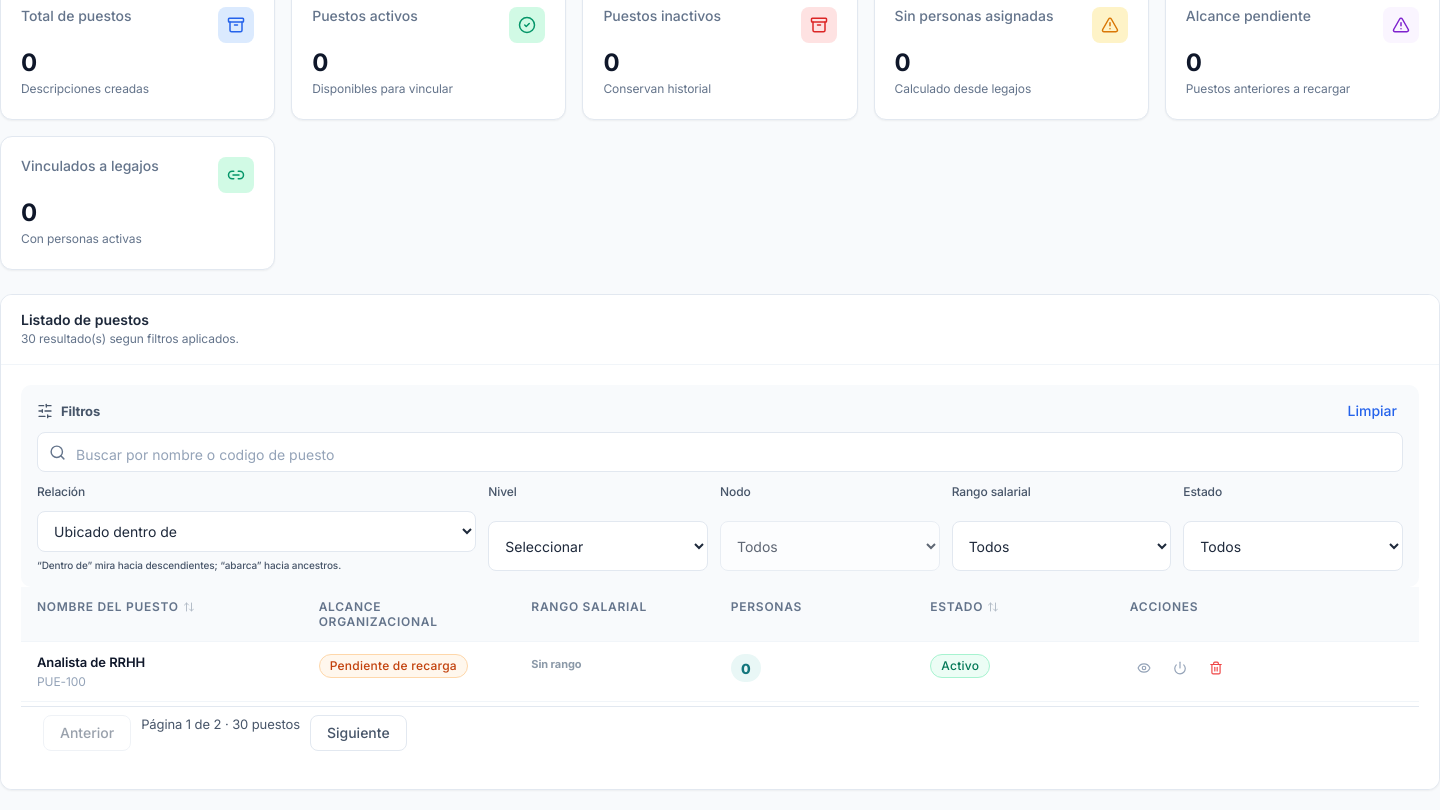
Scenario: PuestosPage — Etapa 9E (paginación real) › la paginación cambia de página, pasando el page correcto a positionApiService.list
(page scrolled)
expect the text "Analista de RRHH" is shown: met, box [37, 654, 145, 670]
Click the button "Siguiente" at (358, 732), box [310, 714, 407, 750]
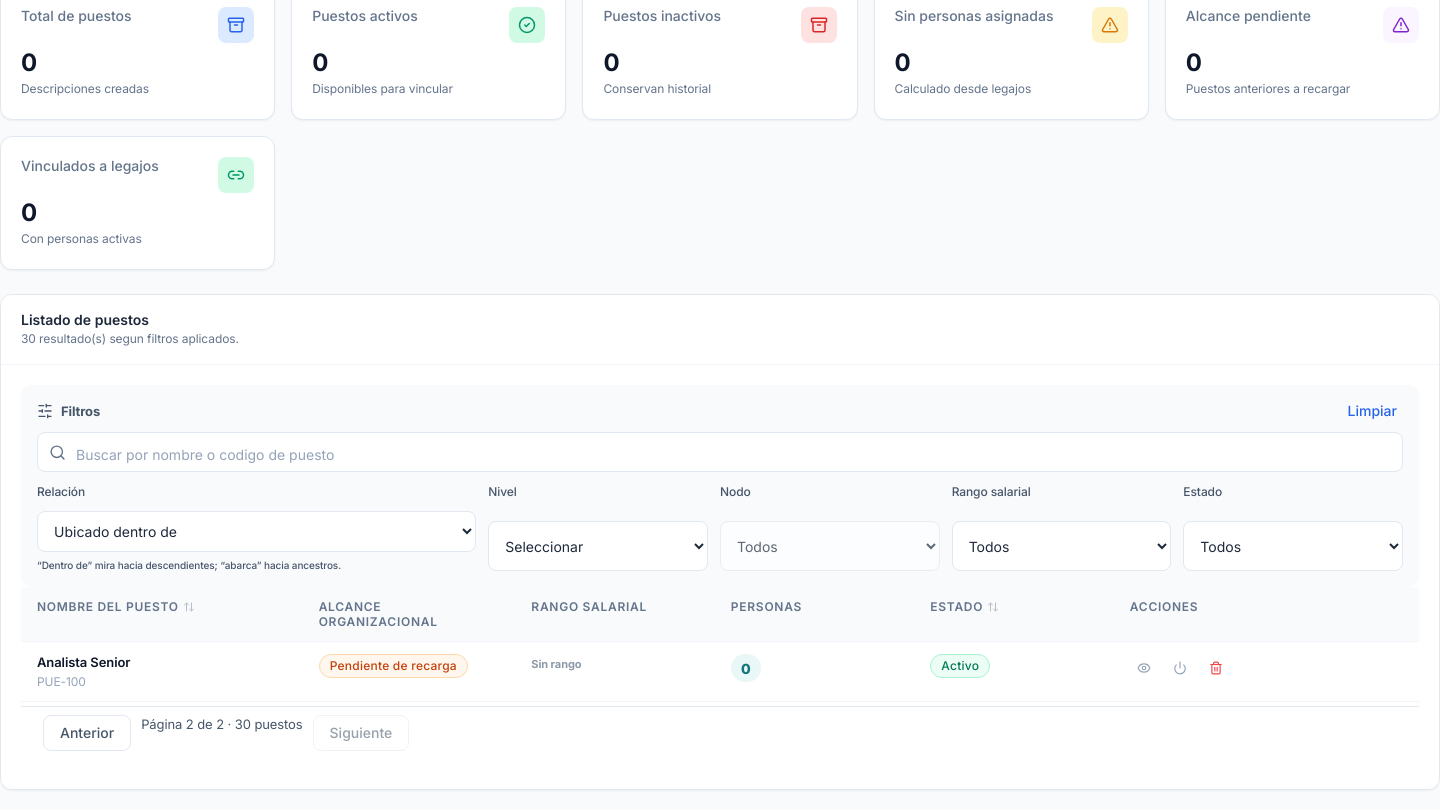
expect the text "Analista Senior" is shown: met, box [37, 654, 130, 670]
